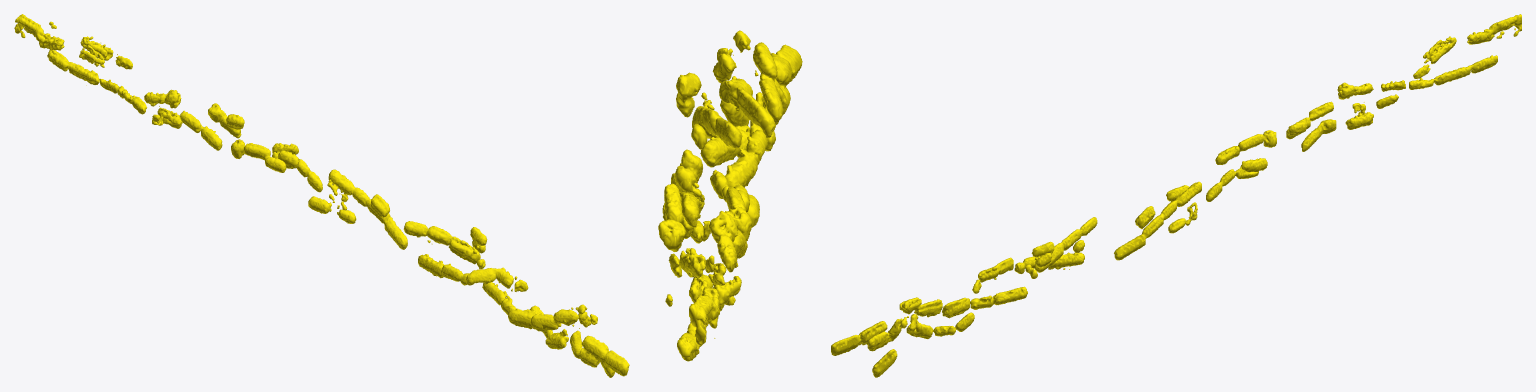
File: fibrils.glb
3 renders of one model, left to right at view 1: azimuth 30°, elevation 25°; view 2: azimuth 150°, elevation 25°; view 3: azimuth 270°, elevation 25°, orthographic. The views are drawn at different scales.
Parts seen in each view (by area): view 1: fibrils; view 2: fibrils; view 3: fibrils.
Boxes of the visible parts, x1,y1,x2,y2 form: fibrils: [14, 14, 629, 377]; fibrils: [658, 30, 802, 361]; fibrils: [831, 14, 1521, 377].
Bounding box in the file's own units: 457 × 309 × 885.
